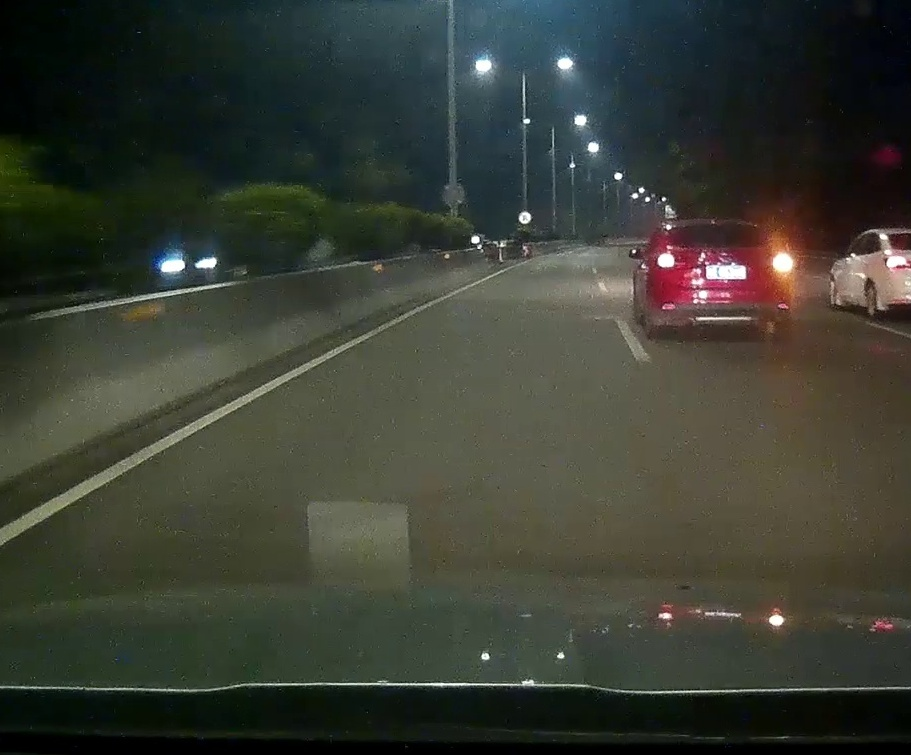L_light: (653, 252, 679, 269)
R_light: (771, 253, 792, 270)
T_light: (709, 225, 729, 230)
night-right: (646, 217, 794, 341)
